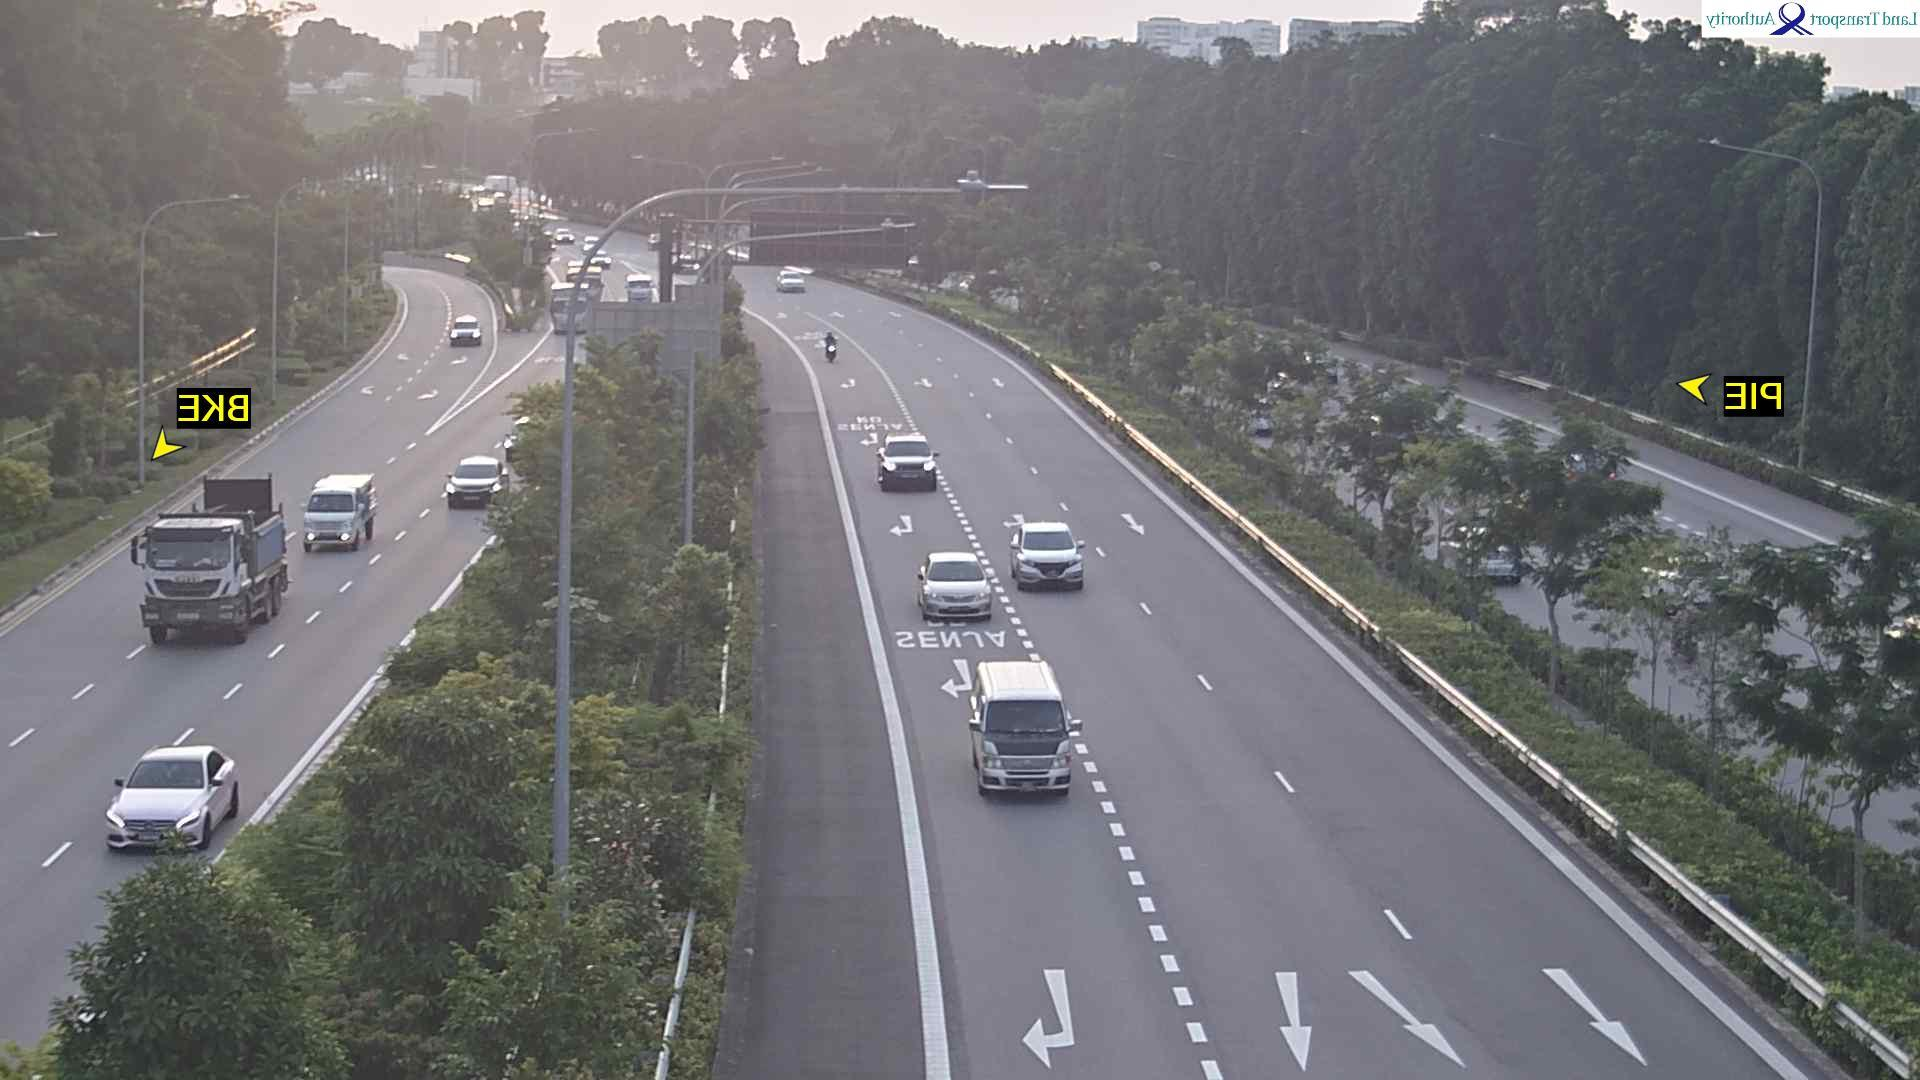cars: (968, 658, 1076, 796), (105, 742, 241, 852), (302, 472, 380, 553), (918, 549, 994, 622), (1010, 520, 1087, 591), (1455, 525, 1523, 583), (877, 433, 942, 491), (444, 454, 509, 508), (1563, 444, 1621, 483), (501, 414, 531, 458), (450, 313, 483, 345), (566, 258, 603, 284), (626, 272, 657, 302), (778, 266, 807, 291), (673, 251, 703, 273), (587, 249, 613, 269), (727, 244, 752, 262), (554, 225, 578, 244), (583, 233, 603, 247), (649, 231, 661, 247)
motorcycle: (824, 331, 839, 363)
trucks: (131, 472, 291, 645), (550, 284, 601, 332)
